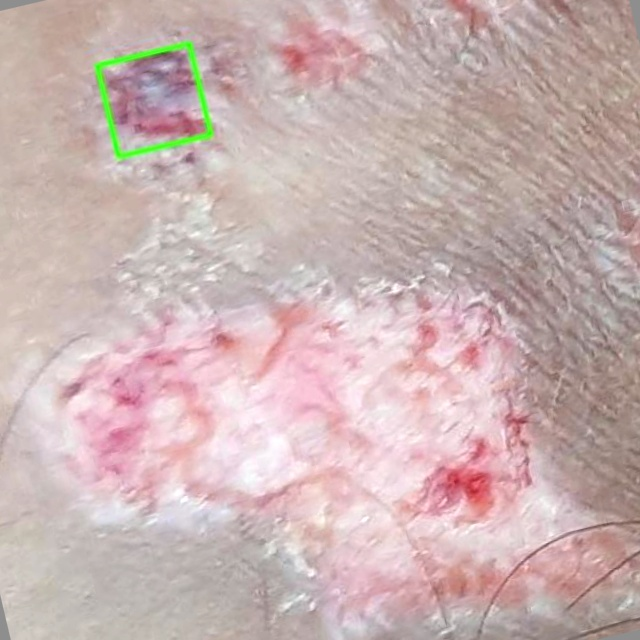Eczema: (97, 43, 210, 156)
